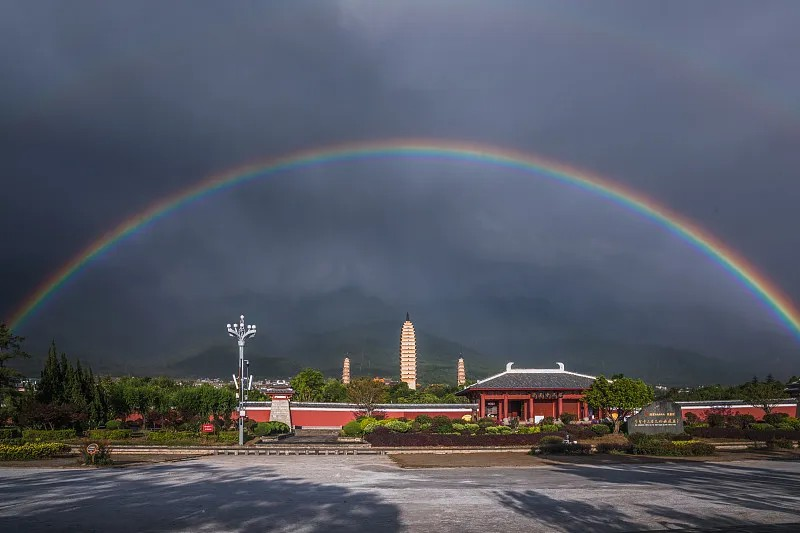ThreePagoda: (399, 310, 418, 390)
